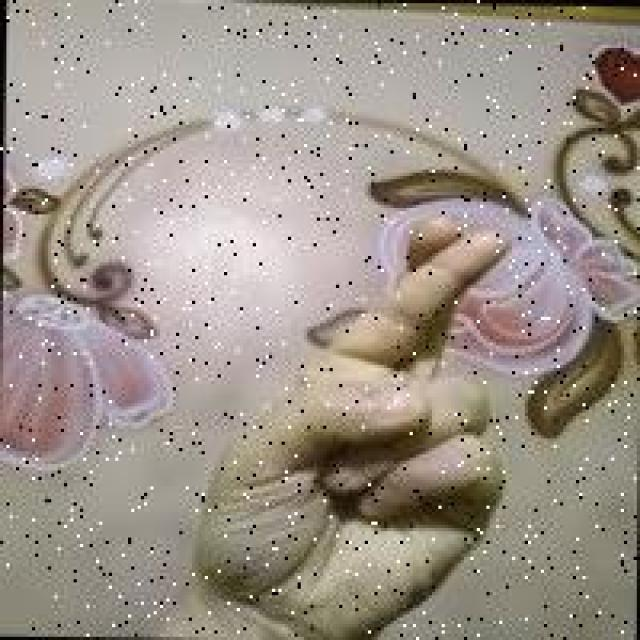R: (190, 208, 520, 618)
